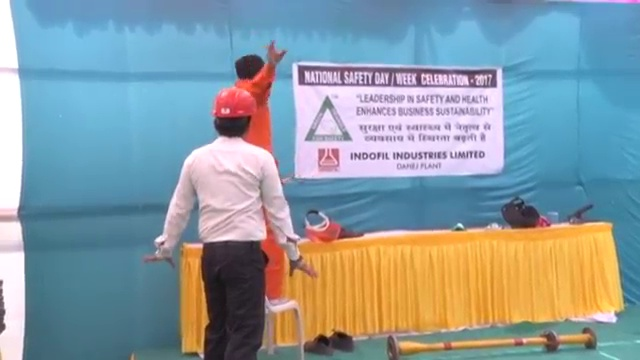helmet: (209, 85, 260, 119)
helmet_off: (234, 53, 268, 86)
helmet_on: (207, 85, 261, 142)
person: (144, 81, 298, 360), (219, 45, 305, 297)
